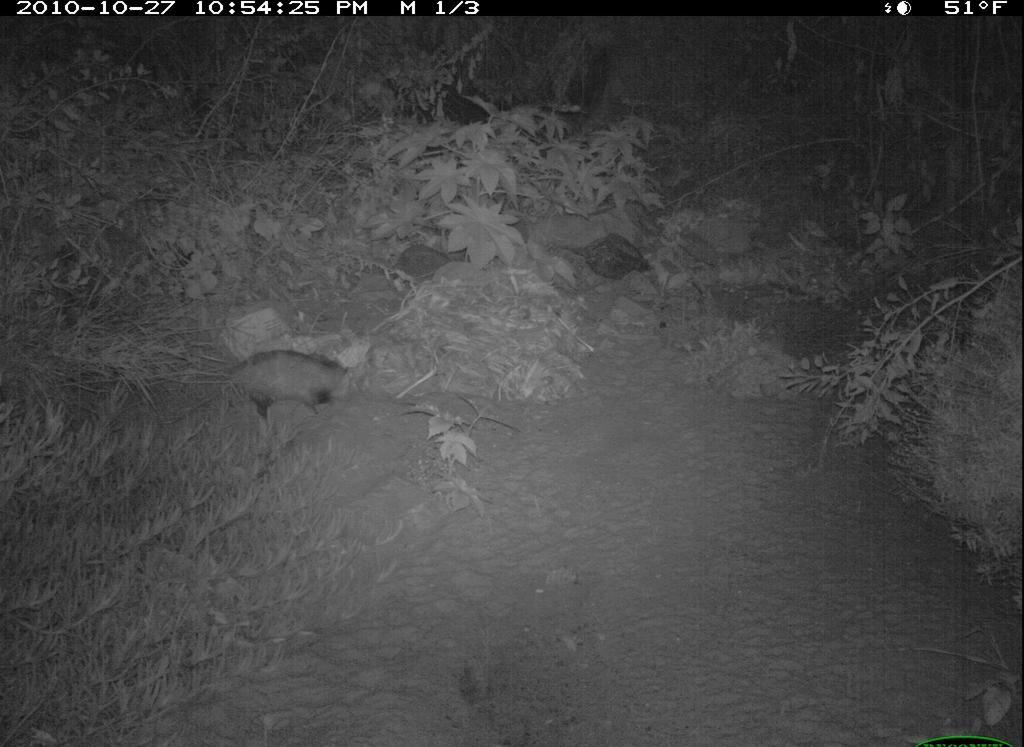opossum: (186, 347, 355, 425)
